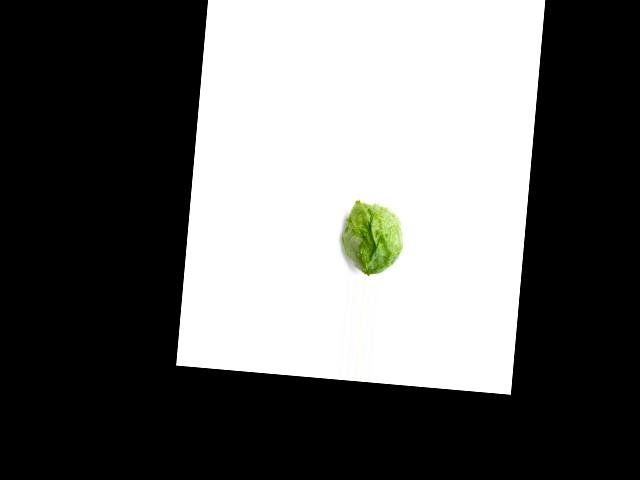lettuce: (335, 199, 410, 277)
